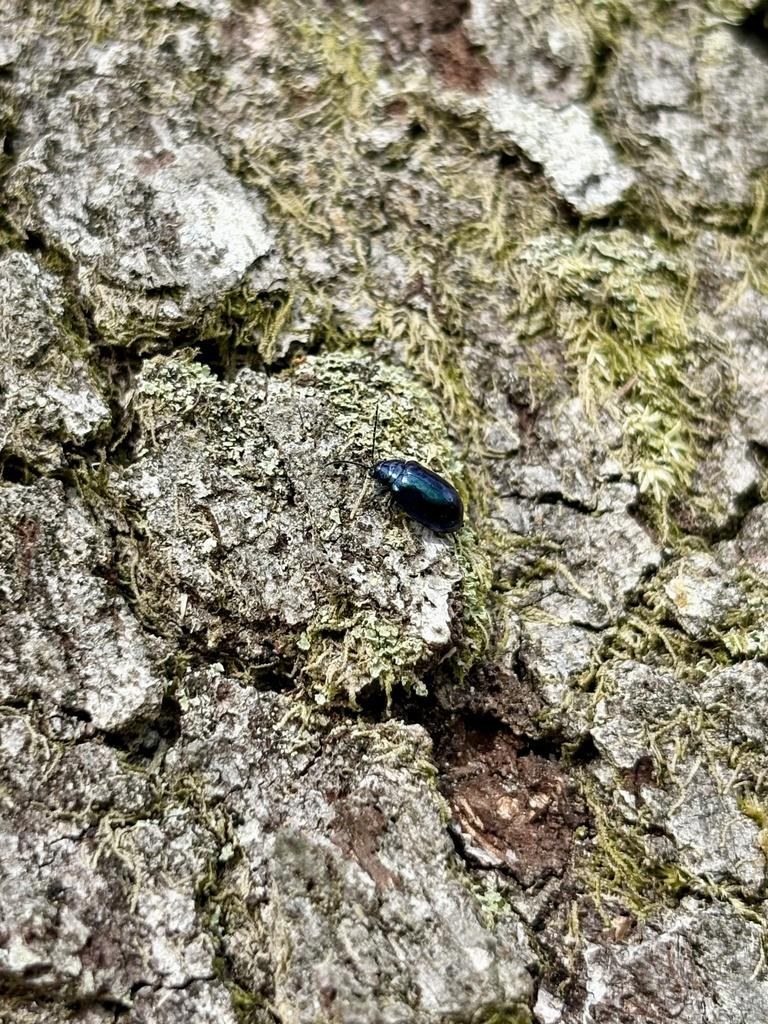flea_beetle: (300, 378, 494, 586)
